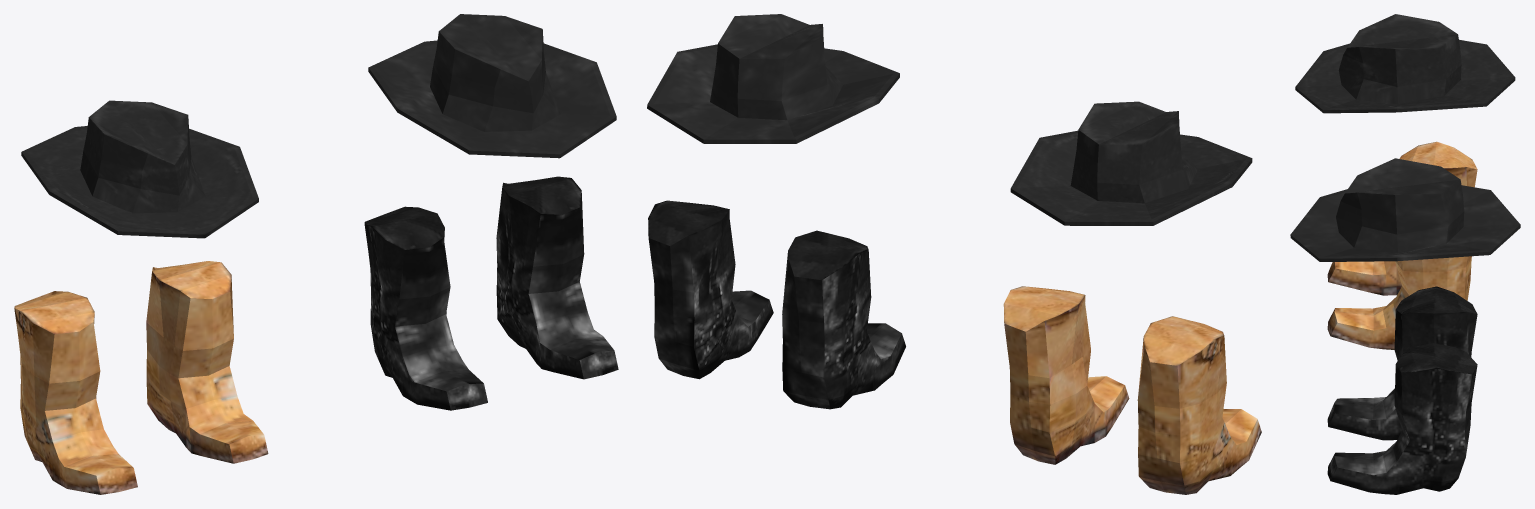
The model's file is BootsAndHats.fbx.
3 views of the same model, side by side, from view 1: azimuth 30°, elevation 25°; view 2: azimuth 150°, elevation 25°; view 3: azimuth 270°, elevation 25° (orthographic). The views are drawn at different scales.
Parts seen in each view (by area): view 1: Boots, Boots.001, Hat, Hat.001; view 2: Boots.001, Boots, Hat, Hat.001; view 3: Boots.001, Hat, Hat.001, Boots.
Boxes of the visible parts, box(x1,y1,x2,y2) form: Boots: box(14, 261, 268, 494); Boots.001: box(364, 176, 618, 410); Hat: box(368, 14, 616, 158); Hat.001: box(21, 100, 258, 238); Boots.001: box(648, 200, 905, 409); Boots: box(1003, 286, 1261, 494); Hat: box(647, 14, 899, 143); Hat.001: box(1010, 101, 1252, 225); Boots.001: box(1327, 286, 1477, 494); Hat: box(1290, 158, 1520, 261); Hat.001: box(1295, 14, 1515, 113); Boots: box(1327, 141, 1477, 349).
Bounding box in the file's own units: 1114 × 646 × 478.
